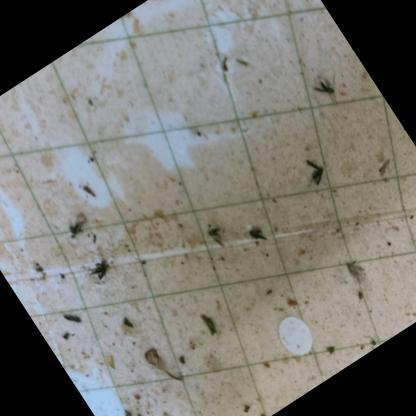prays_oleae: (303, 70, 344, 112), (294, 147, 332, 190), (241, 219, 278, 259), (84, 252, 121, 290), (52, 296, 86, 334), (202, 218, 223, 244)
